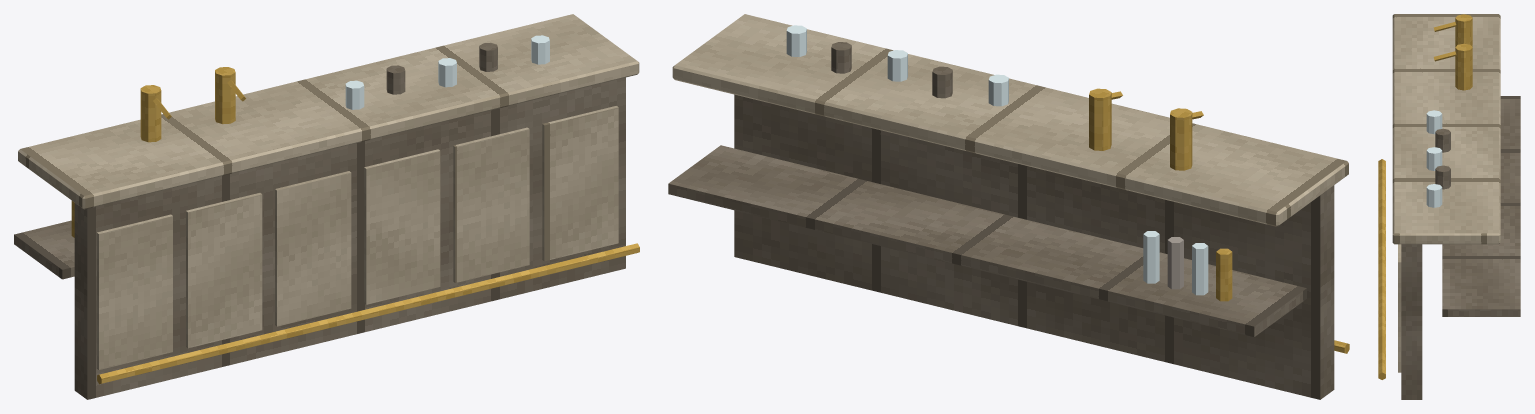
The model's file is bar_counter.obj.
3 renders of one model, left to right at view 1: azimuth 30°, elevation 25°; view 2: azimuth 150°, elevation 25°; view 3: azimuth 270°, elevation 25°, orthographic. The views are drawn at different scales.
Parts seen in each view (by area): view 1: bar_counter; view 2: bar_counter; view 3: bar_counter.
Boxes of the visible parts, x1=… form: bar_counter: x1=14, y1=14, x2=639, y2=399; bar_counter: x1=668, y1=14, x2=1349, y2=399; bar_counter: x1=1378, y1=14, x2=1520, y2=399.
Size of the model in its own units: 3 by 1.33 by 0.8166.
